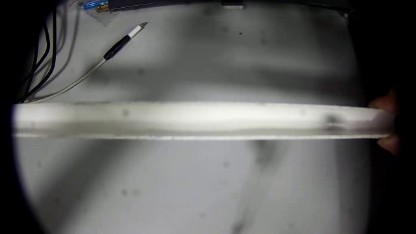gangzhu: (321, 112, 346, 132)
